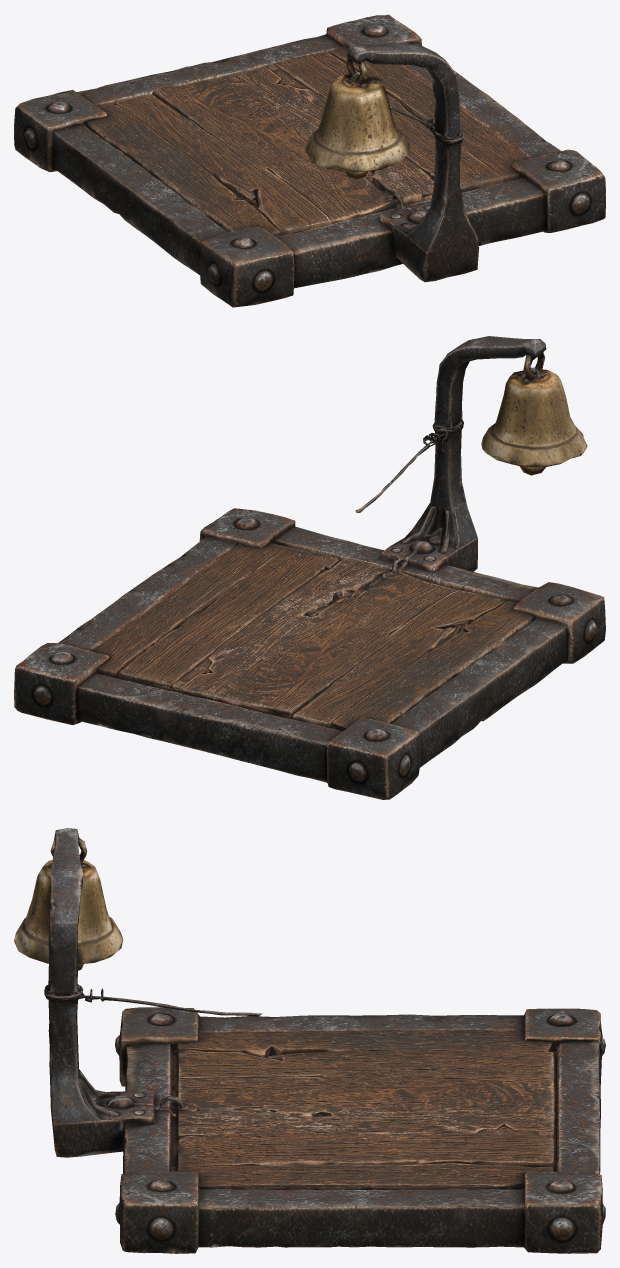
File: TrapAlarm.fbx
The picture shows the model from 3 angles, top to bottom: view 1: azimuth 30°, elevation 25°; view 2: azimuth 150°, elevation 25°; view 3: azimuth 270°, elevation 25°; orthographic projection. The views are drawn at different scales.
Parts seen in each view (by area): view 1: texture_mapping; view 2: texture_mapping; view 3: texture_mapping.
Boxes of the visible parts, x1,y1,x2,y2 form: texture_mapping: (14,14,605,307); texture_mapping: (14,336,605,799); texture_mapping: (14,828,605,1253).
Size of the model in its own units: 0.8167 by 1 by 0.531.
Materials: 1 (1 with a texture image).
